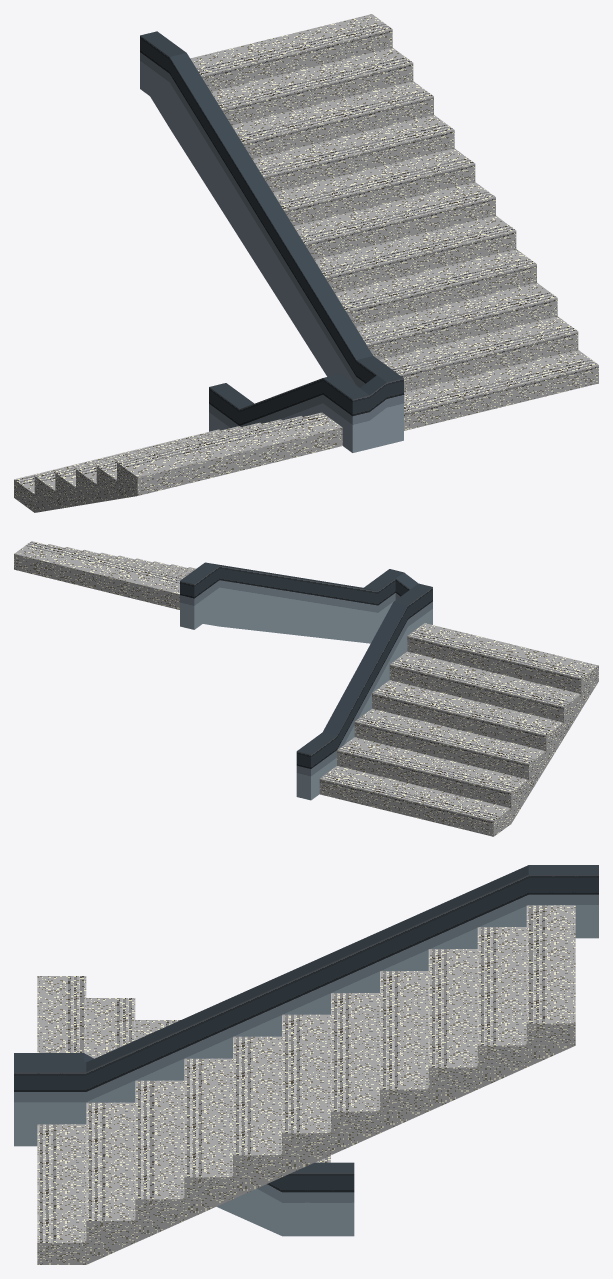
File: stairs - extended.fbx
3 renders of one model, top to bottom at view 1: azimuth 30°, elevation 25°; view 2: azimuth 150°, elevation 25°; view 3: azimuth 270°, elevation 25°, orthographic. The views are drawn at different scales.
Visible parts, largest first — view 1: stairs.002, stair railing, stairs.004; view 2: stairs.004, stair railing, stairs.002; view 3: stairs.002, stair railing, stairs.004.
Part boxes in pixels (left/top/right/bottom): stairs.002: left=190, top=14, right=598, bottom=430; stair railing: left=140, top=31, right=403, bottom=452; stairs.004: left=14, top=412, right=342, bottom=512; stairs.004: left=319, top=623, right=598, bottom=836; stair railing: left=180, top=562, right=432, bottom=800; stairs.002: left=14, top=541, right=195, bottom=609; stairs.002: left=37, top=905, right=575, bottom=1264; stair railing: left=14, top=865, right=598, bottom=1236; stairs.004: left=37, top=976, right=330, bottom=1162.
Bounding box in the file's own units: 900 × 599 × 834.
